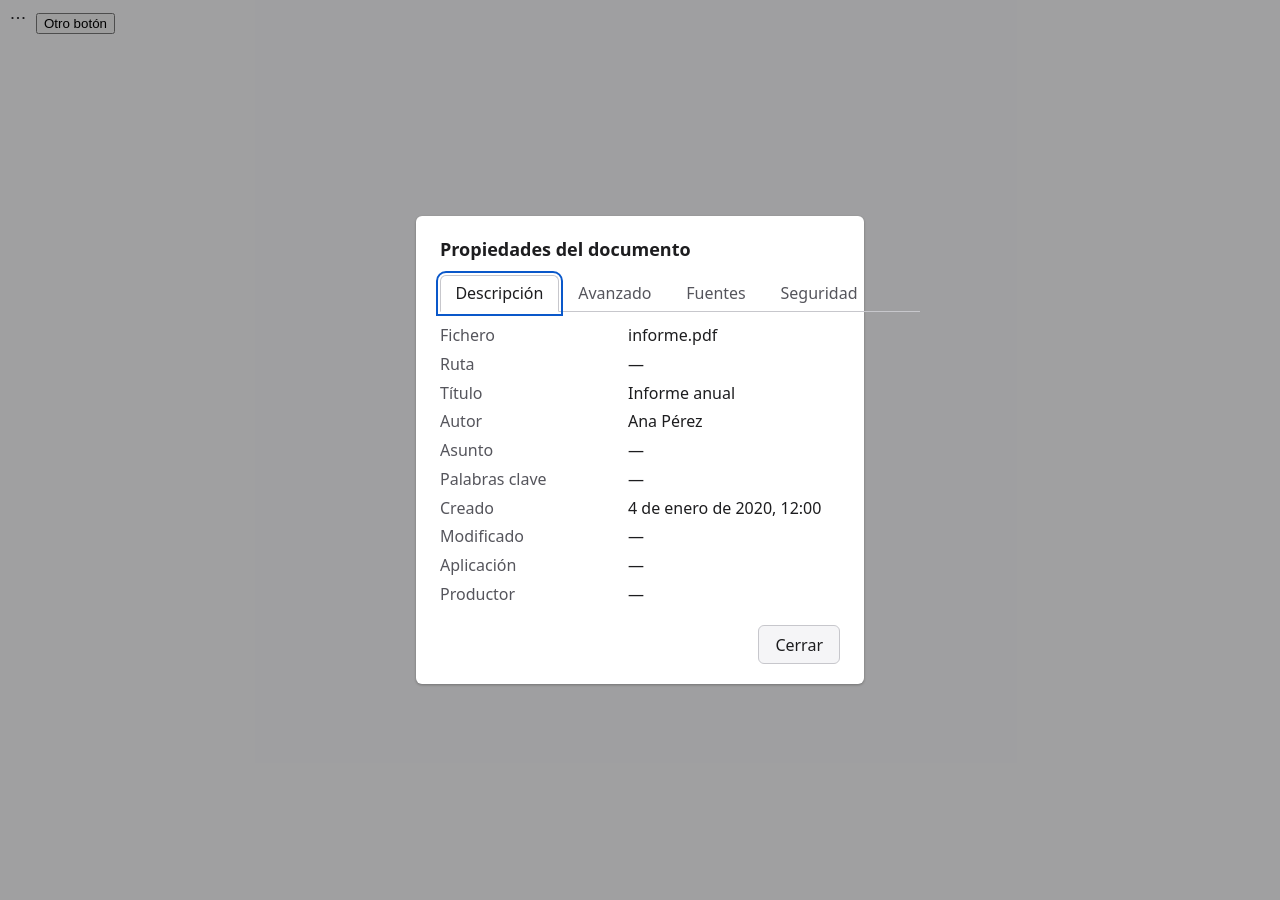
Scenario: diálogo de propiedades › el botón «Cerrar» cierra el diálogo
Click the button "Cerrar" at (799, 645), box [758, 625, 840, 664]
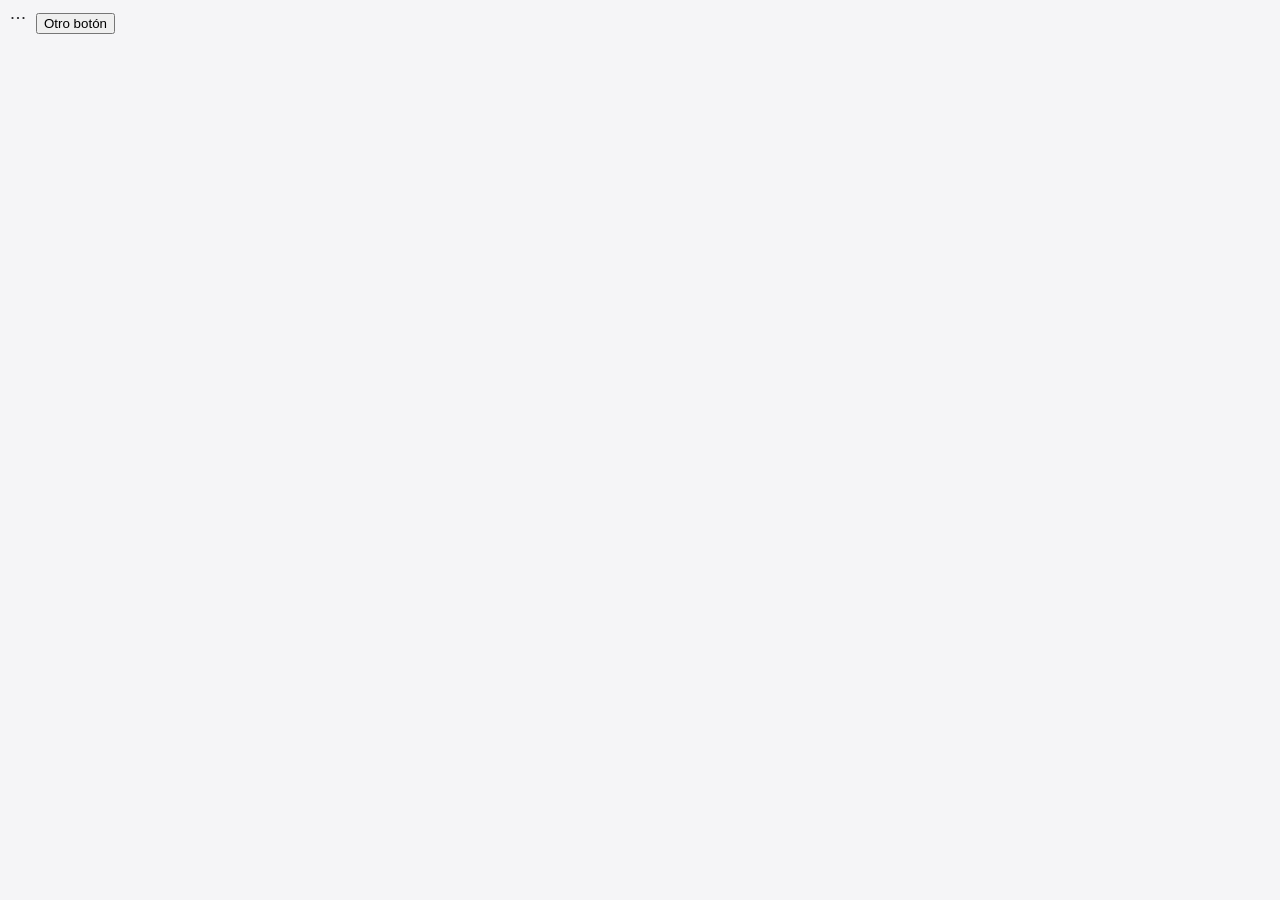
Check: the dialog is gone
